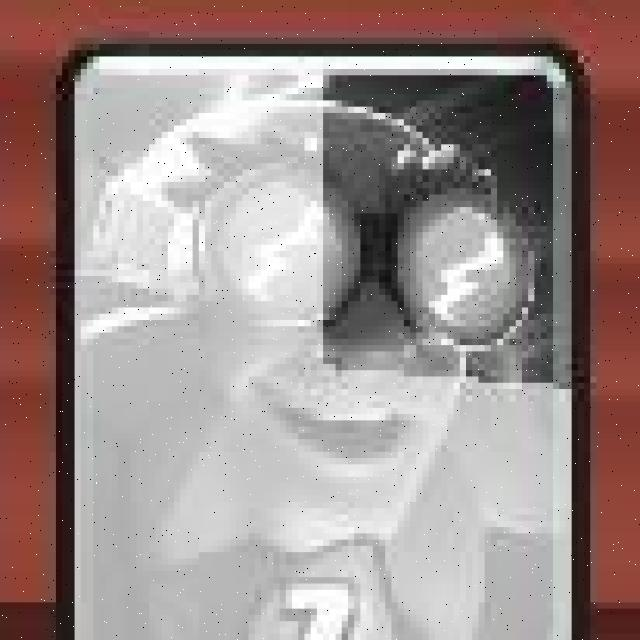Electro_Giant: (58, 41, 595, 640)
